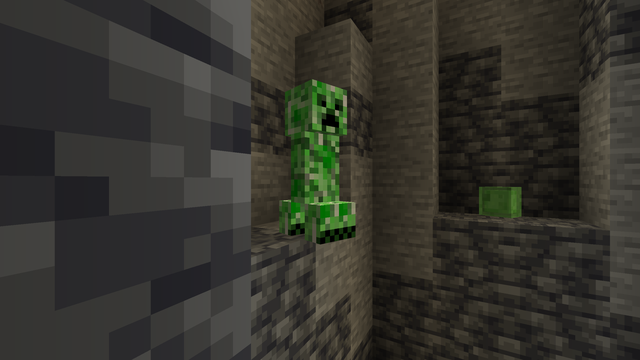creepers: (277, 69, 349, 243)
slimes: (483, 185, 522, 218)
